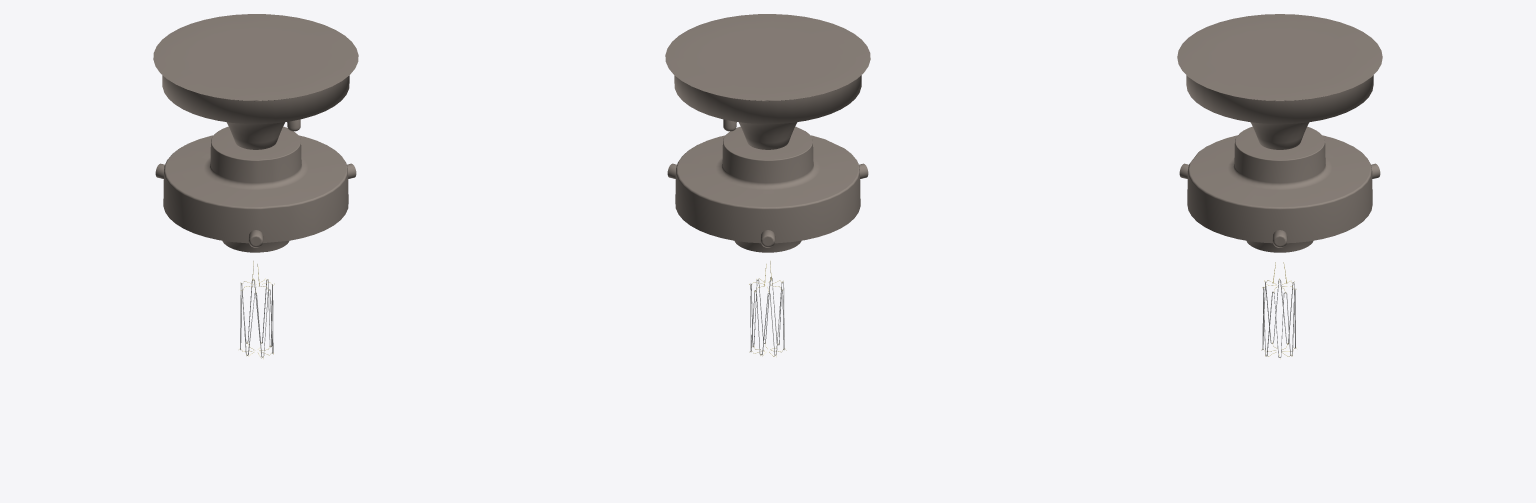
Rendered from abo-B07B4VSTG2.glb.
3 renders of one model, left to right at view 1: azimuth 30°, elevation 25°; view 2: azimuth 150°, elevation 25°; view 3: azimuth 270°, elevation 25°, orthographic.
Bounding box in the file's own units: 0.279 × 0.269 × 0.279.
Materials: 1 (1 with a texture image).
